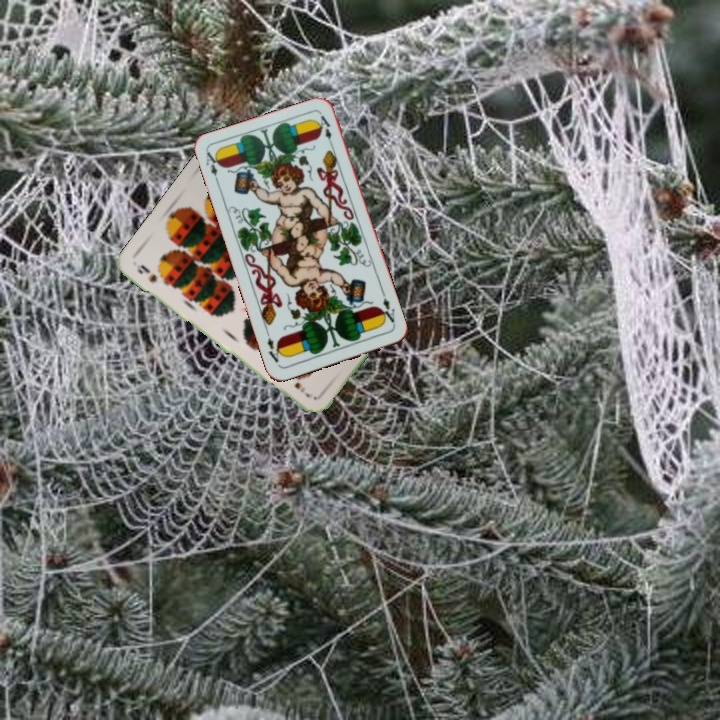EA: (202, 148, 223, 187), (376, 294, 398, 328)
S9: (133, 260, 159, 285)
